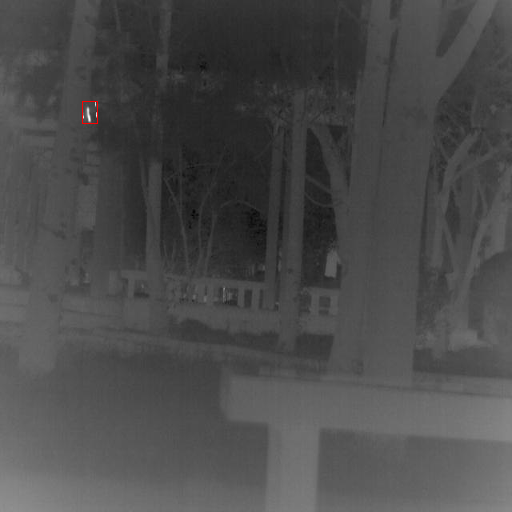Target: (82, 101, 97, 123)
